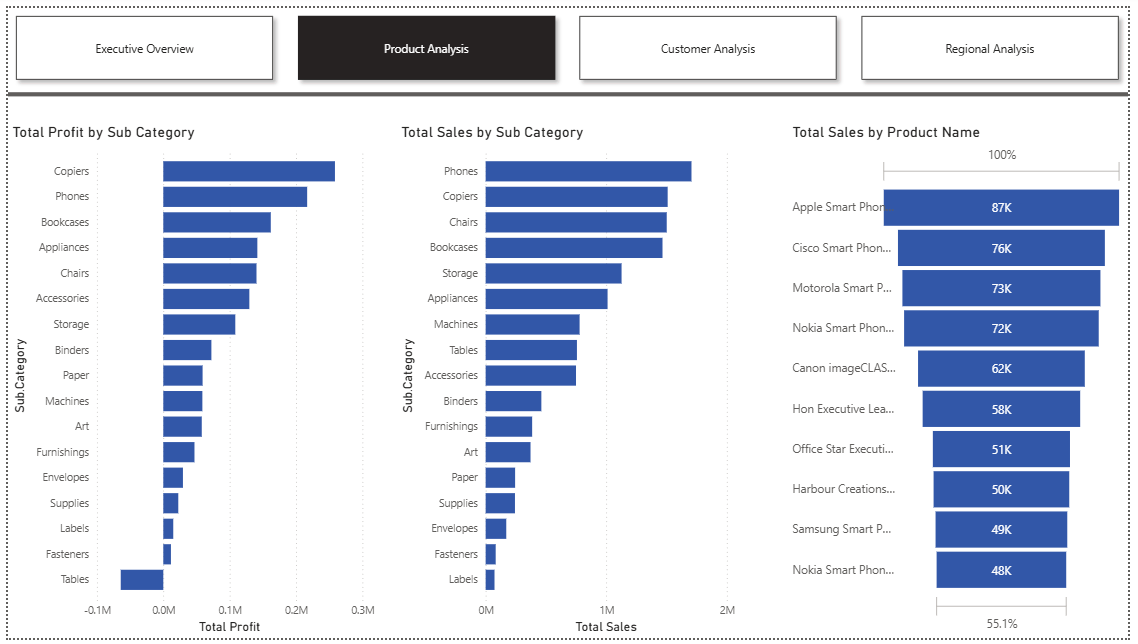

The dashboard page shown, as its layout file describes it:
{"tool":"powerbi","page":{"name":"Product Analysis","canvas":[1280,720],"ordinal":1},"visuals":[{"type":"barChart","title":"Total Sales by Sub Category","fields":{"Category":["superstore.Sub.Category"],"Y":["superstore.Total Sales"]},"box":[444.3,131.4,391.4,588.6],"z":0},{"type":"barChart","title":"Total Profit by Sub Category","fields":{"Category":["superstore.Sub.Category"],"Y":["superstore.Total Profit"]},"box":[0,131.4,424.3,588.6],"z":1000},{"type":"funnel","title":"Total Sales by Product Name","fields":{"Category":["superstore.Product.Name"],"Y":["superstore.Total Sales"]},"box":[891.4,131.4,388.6,588.6],"z":2000},{"type":"pageNavigator","box":[0,0,1280,91.7],"z":3001},{"type":"textbox","box":[0,91.7,1280,40],"z":3002}]}

Visuals, with their boxes in screenshot pixels (x1, y1, x2, y2), scaled from the page's 1280x720 canvas onto the 1138x644 screenshot:
"Total Sales by Sub Category" barChart: [left=395, top=118, right=743, bottom=643]
"Total Profit by Sub Category" barChart: [left=0, top=118, right=377, bottom=643]
"Total Sales by Product Name" funnel: [left=793, top=118, right=1137, bottom=643]
pageNavigator: [left=0, top=0, right=1137, bottom=82]
textbox: [left=0, top=82, right=1137, bottom=118]
